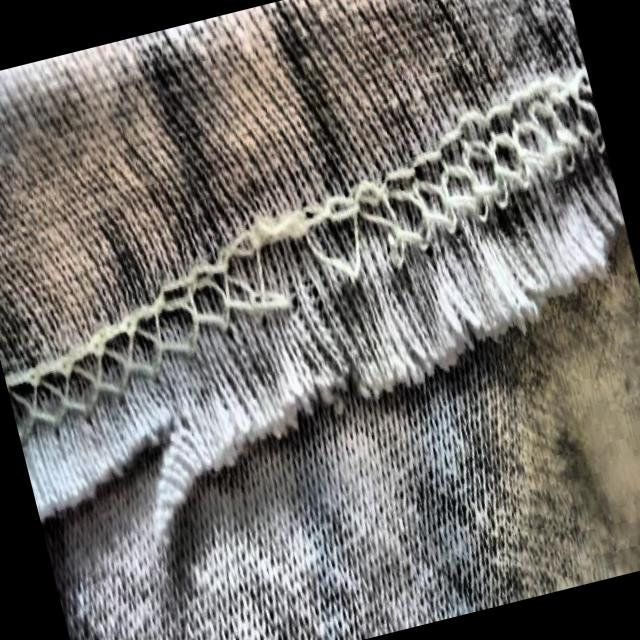gray stitch: (188, 145, 428, 358)
